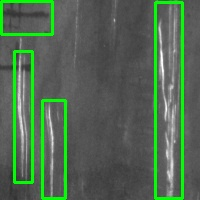inclusion: (1, 1, 52, 34), (1, 56, 34, 76)
scratches: (155, 2, 182, 198), (14, 51, 32, 182), (42, 100, 65, 198)
